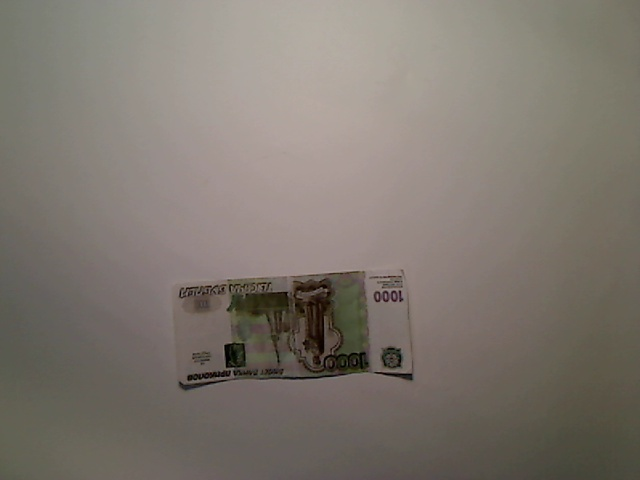banknotes: (167, 265, 419, 393)
